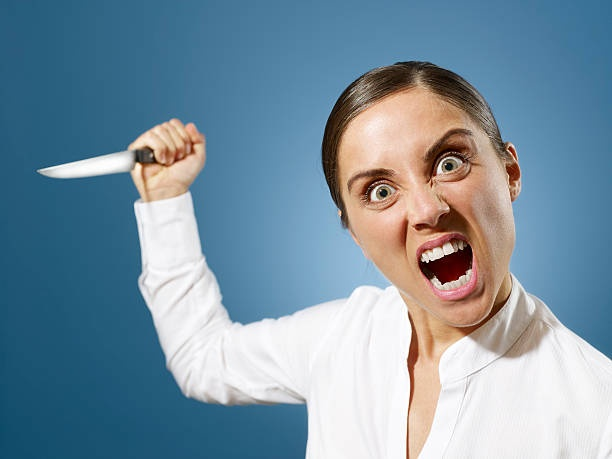knife: (28, 117, 206, 184)
person: (287, 57, 612, 459)
